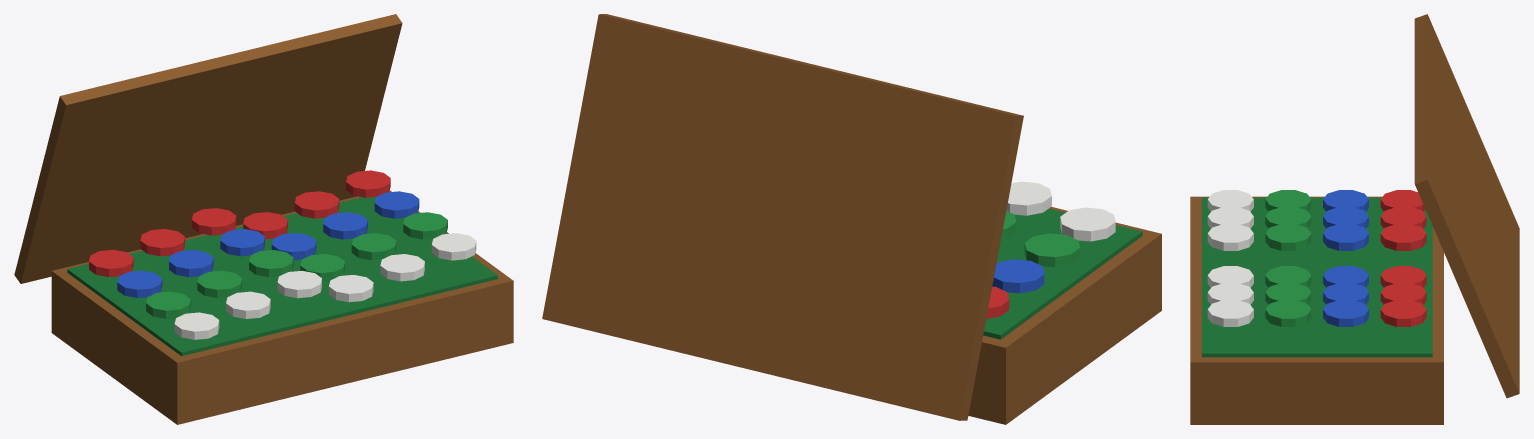
File: casino_chip_box.glb
The picture shows the model from 3 angles, left to right: view 1: azimuth 30°, elevation 25°; view 2: azimuth 150°, elevation 25°; view 3: azimuth 270°, elevation 25°; orthographic projection. The views are drawn at different scales.
Visible parts, largest first — view 1: lid_chip_box, box_chip_box, box_felt, chips_chip_white, chips_chip_blue, chips_chip_red, chips_chip_green; view 2: lid_chip_box, box_chip_box, box_felt, chips_chip_white, chips_chip_green, chips_chip_blue; view 3: lid_chip_box, box_chip_box, box_felt, chips_chip_white, chips_chip_green, chips_chip_blue, chips_chip_red.
Boxes of the visible parts, x1,y1,x2,y2 form: lid_chip_box: [14, 14, 402, 283]; box_chip_box: [51, 190, 513, 424]; box_felt: [67, 197, 497, 356]; chips_chip_white: [174, 233, 476, 339]; chips_chip_blue: [117, 191, 419, 297]; chips_chip_red: [89, 170, 390, 277]; chips_chip_green: [146, 212, 447, 318]; lid_chip_box: [542, 14, 1023, 420]; box_chip_box: [968, 207, 1161, 424]; box_felt: [983, 208, 1142, 339]; chips_chip_white: [1006, 181, 1115, 241]; chips_chip_green: [1001, 211, 1080, 267]; chips_chip_blue: [992, 259, 1044, 293]; lid_chip_box: [1414, 14, 1519, 398]; box_chip_box: [1190, 196, 1443, 424]; box_felt: [1202, 197, 1432, 357]; chips_chip_white: [1207, 190, 1253, 326]; chips_chip_green: [1265, 190, 1311, 326]; chips_chip_blue: [1323, 190, 1368, 326]; chips_chip_red: [1380, 190, 1426, 326].
Size of the model in its own units: 0.34 by 0.2347 by 0.2855.
